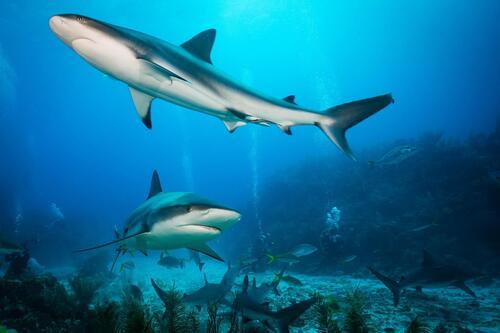shark: (48, 13, 396, 163), (72, 169, 242, 273)
